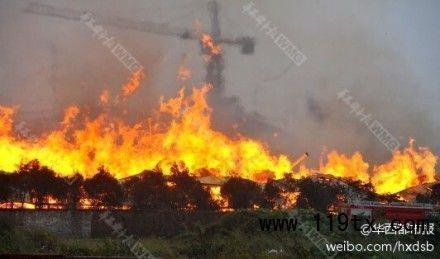fire: (0, 26, 363, 216)
